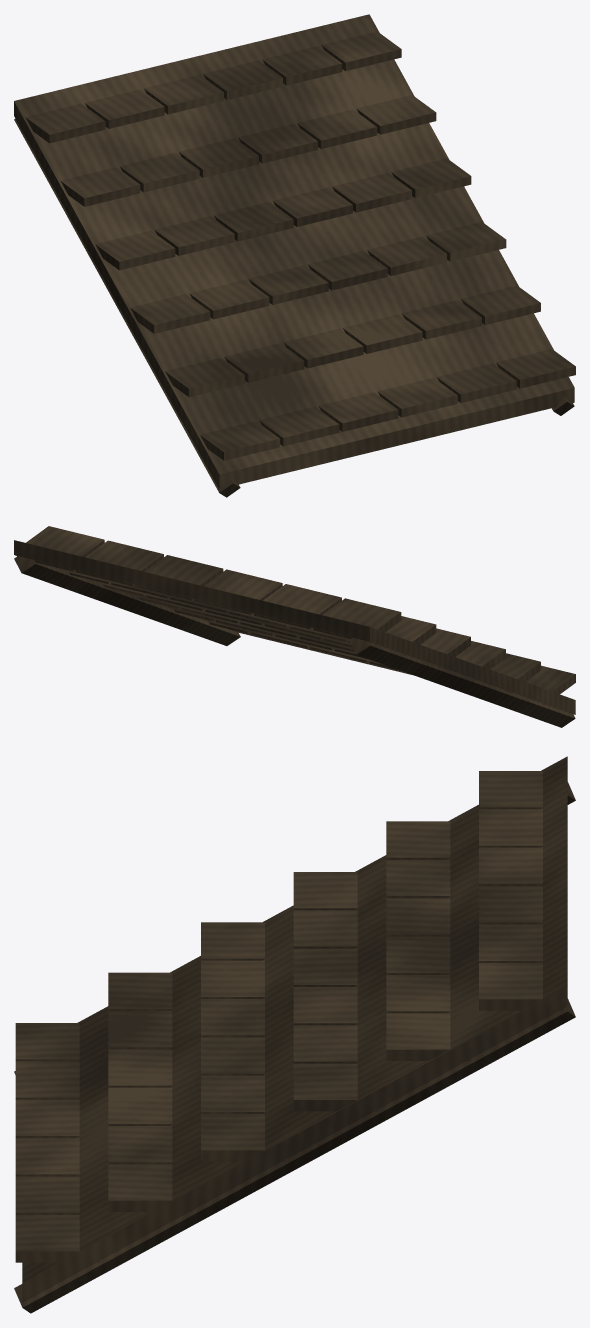
The model's file is Roof_Wood_2m.glb.
The picture shows the model from 3 angles, top to bottom: view 1: azimuth 30°, elevation 25°; view 2: azimuth 150°, elevation 25°; view 3: azimuth 270°, elevation 25°; orthographic projection. The views are drawn at different scales.
Visible parts, largest first — view 1: Roof_Wood_2m; view 2: Roof_Wood_2m; view 3: Roof_Wood_2m.
Part boxes in pixels (box(x1,y1,x2,y2)): Roof_Wood_2m: box(14, 14, 575, 497); Roof_Wood_2m: box(14, 526, 575, 727); Roof_Wood_2m: box(14, 756, 575, 1313).
Size of the model in its own units: 2 by 1.35 by 2.06.
Materials: 1 (1 with a texture image).
